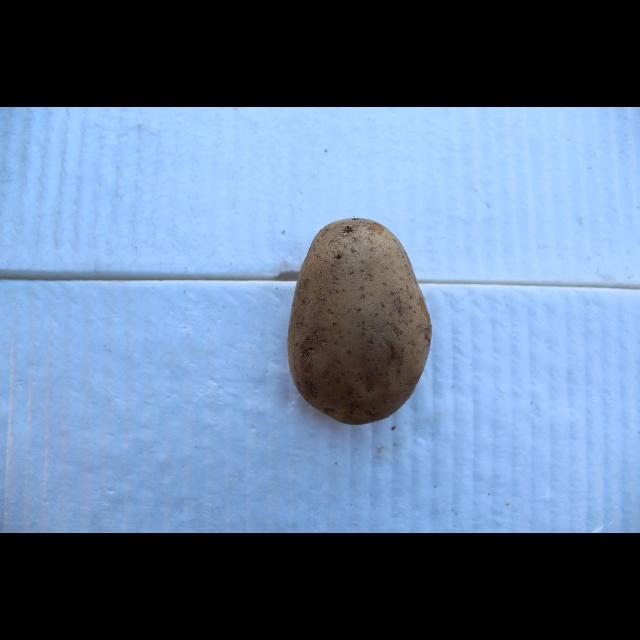Diseased-fungal potato: (283, 214, 442, 432)
